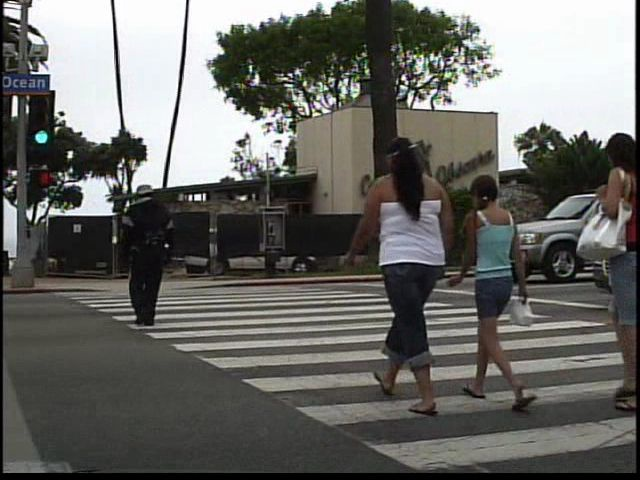person: (353, 125, 465, 418), (463, 167, 537, 421), (113, 178, 179, 337)
